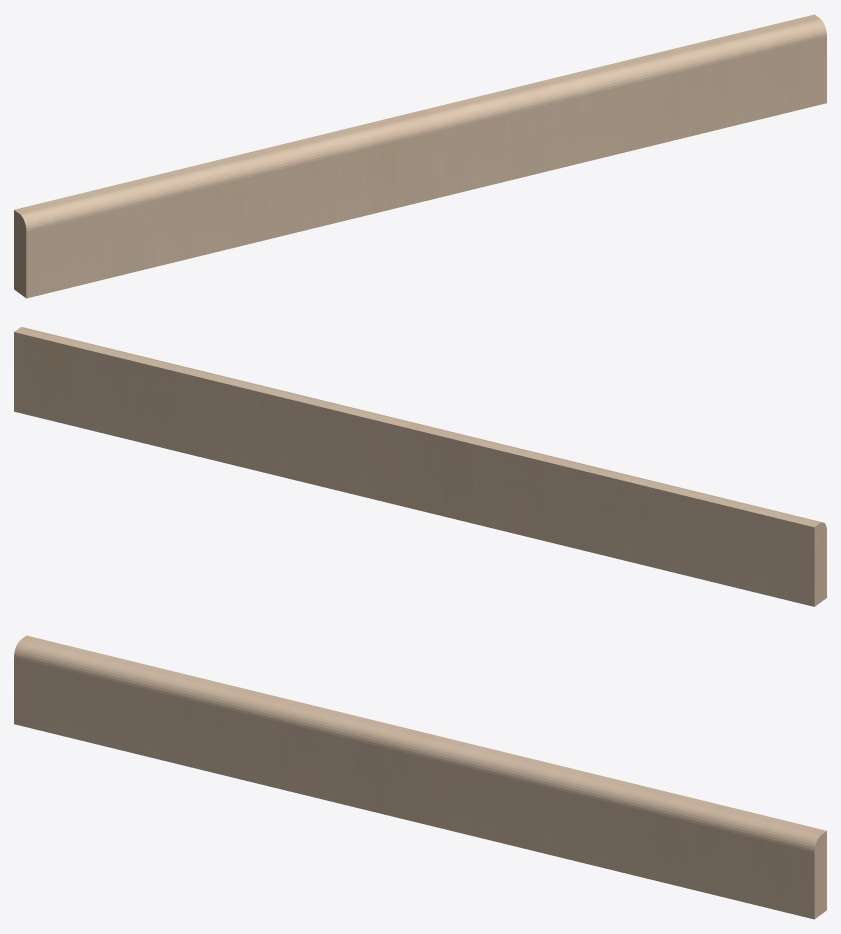
File: backrest-rail-1.0.0.glb
3 renders of one model, top to bottom at view 1: azimuth 30°, elevation 25°; view 2: azimuth 150°, elevation 25°; view 3: azimuth 330°, elevation 25°, orthographic.
Parts seen in each view (by area): view 1: rail; view 2: rail; view 3: rail.
Boxes of the visible parts, x1,y1,x2,y2 form: rail: (14, 14, 826, 298); rail: (14, 327, 826, 606); rail: (14, 635, 826, 919).
Bounding box in the file's own units: 1 × 0.095 × 0.027.
1 material, 1 textured.
